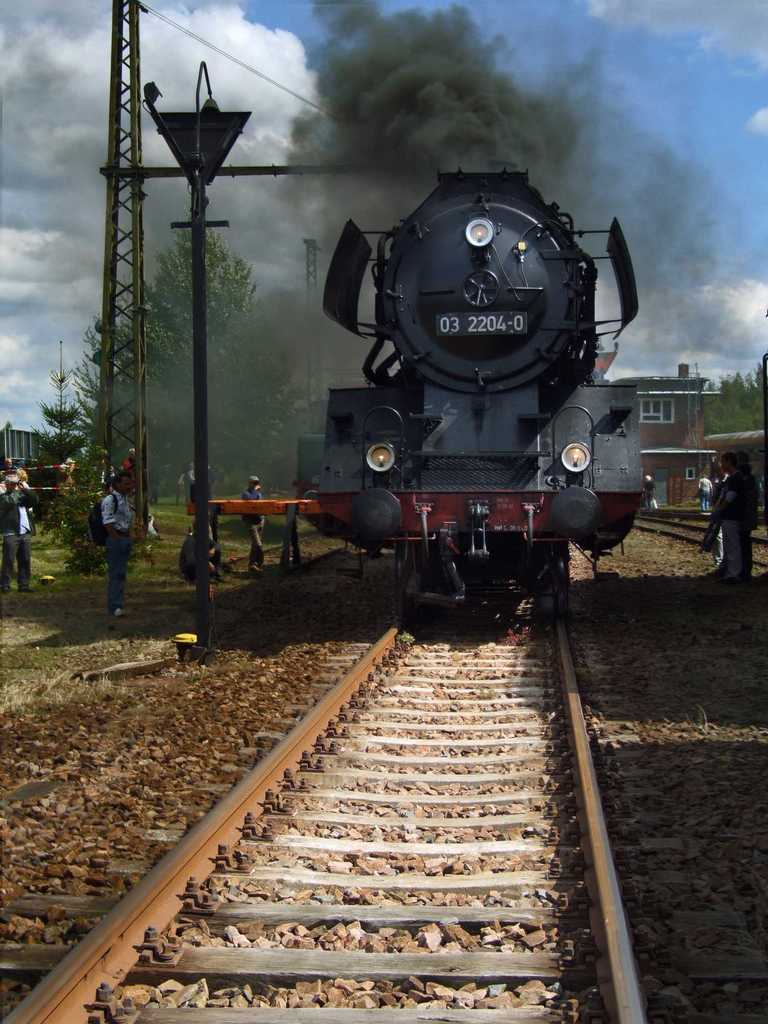train: (310, 165, 656, 614)
